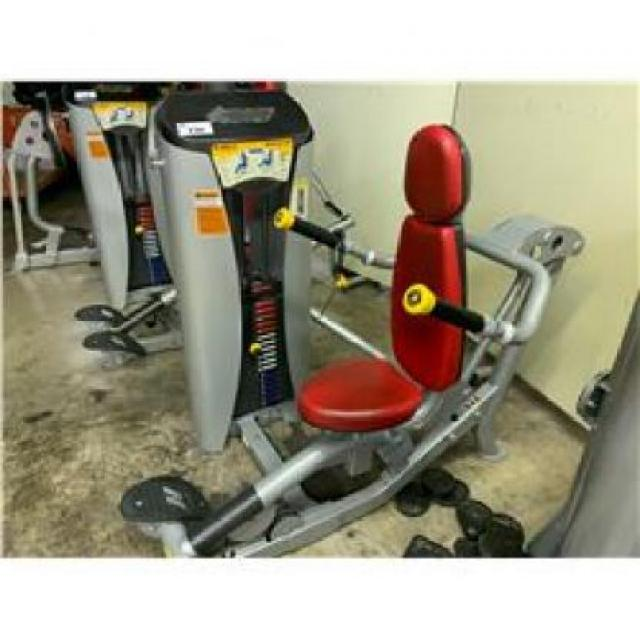seated dip machine: (159, 88, 586, 488)
